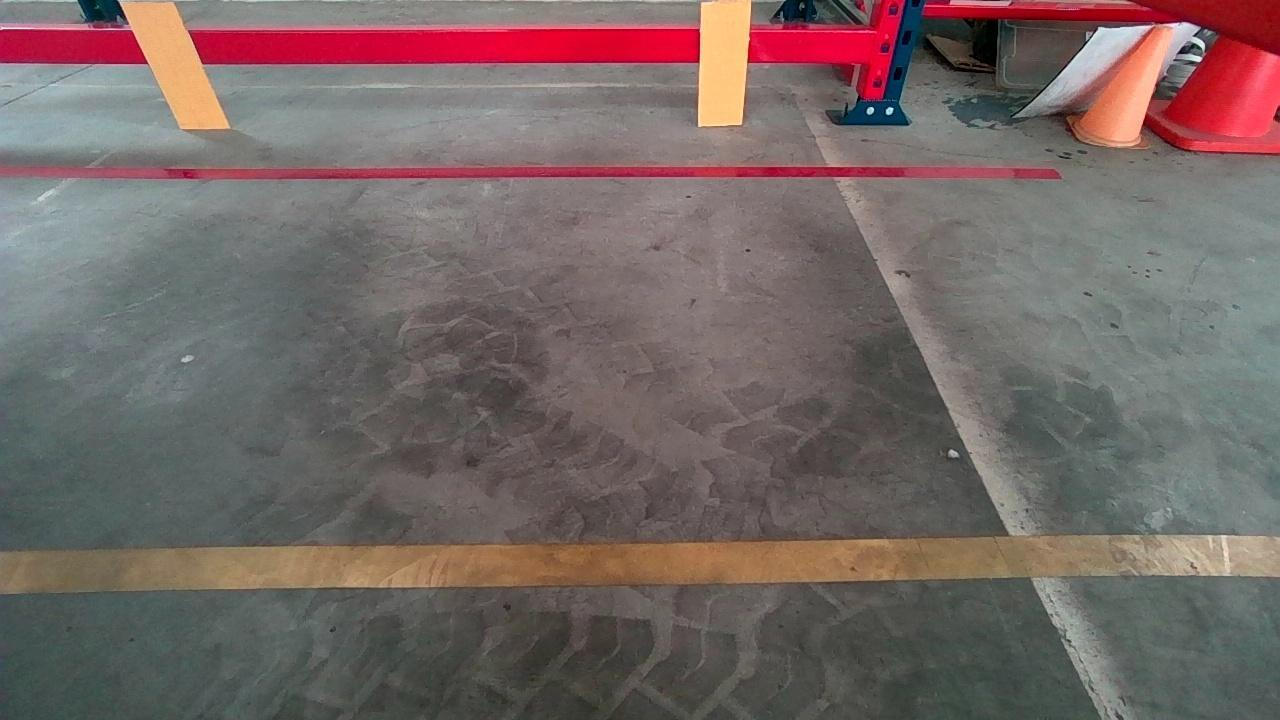h_rack: (14, 23, 875, 66)
orange_strip: (119, 2, 230, 126), (698, 2, 750, 124)
red_line: (2, 157, 1061, 181)
yellow_line: (0, 532, 1274, 593)
